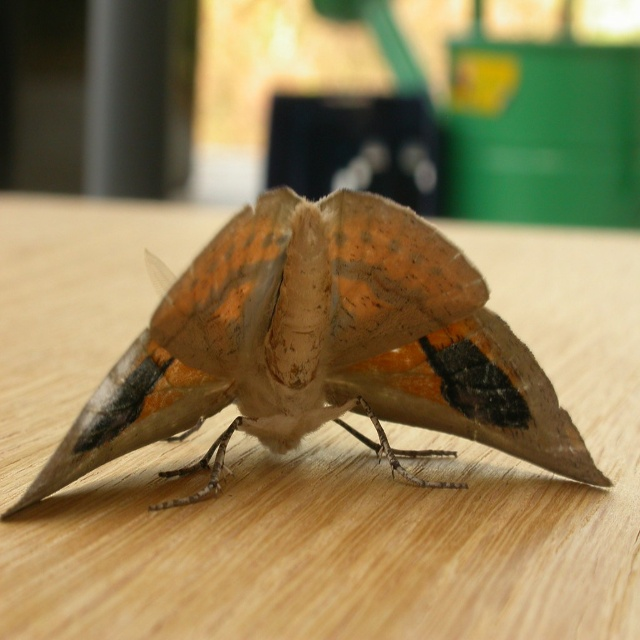Moths and butterflies: (0, 186, 618, 523)
